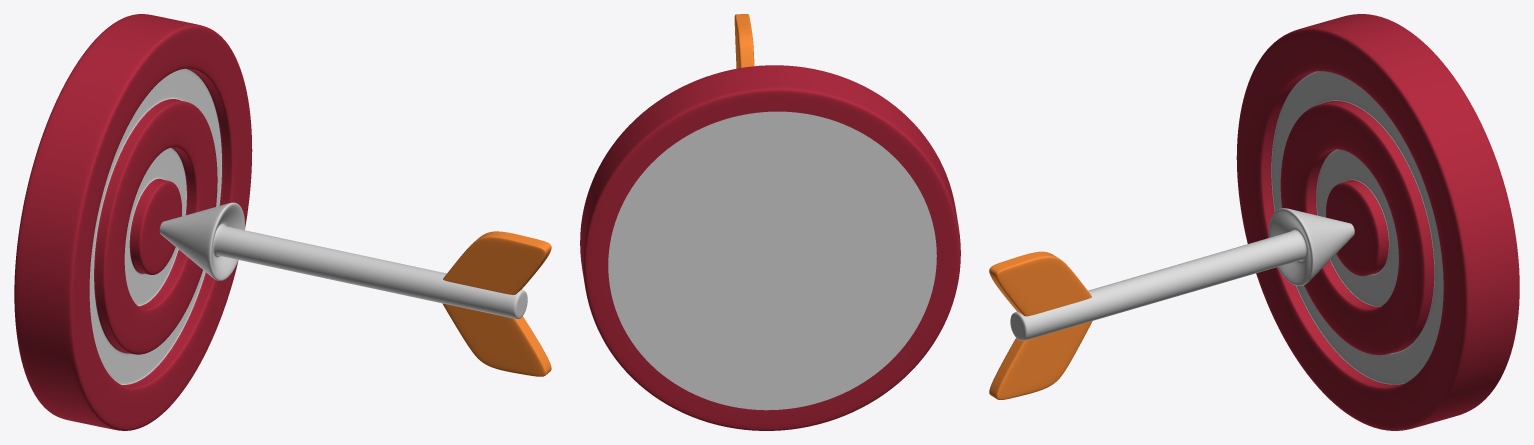
File: target.glb
3 views of the same model, side by side, from view 1: azimuth 30°, elevation 25°; view 2: azimuth 150°, elevation 25°; view 3: azimuth 270°, elevation 25° (orthographic). The views are drawn at different scales.
Visible parts, largest first — view 1: Circle; view 2: Circle; view 3: Circle.
Part boxes in pixels (bbox=[...]): Circle: bbox=[14, 14, 551, 430]; Circle: bbox=[580, 14, 960, 430]; Circle: bbox=[989, 14, 1519, 430].
Size of the model in its own units: 1.82 by 1.67 by 2.13.
